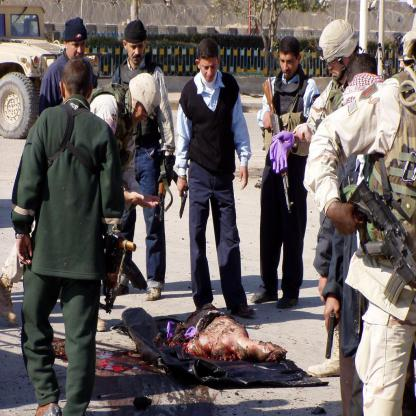face: (328, 51, 349, 79), (128, 36, 146, 66), (69, 38, 87, 66), (280, 52, 298, 79), (134, 101, 154, 125), (201, 57, 219, 83)
